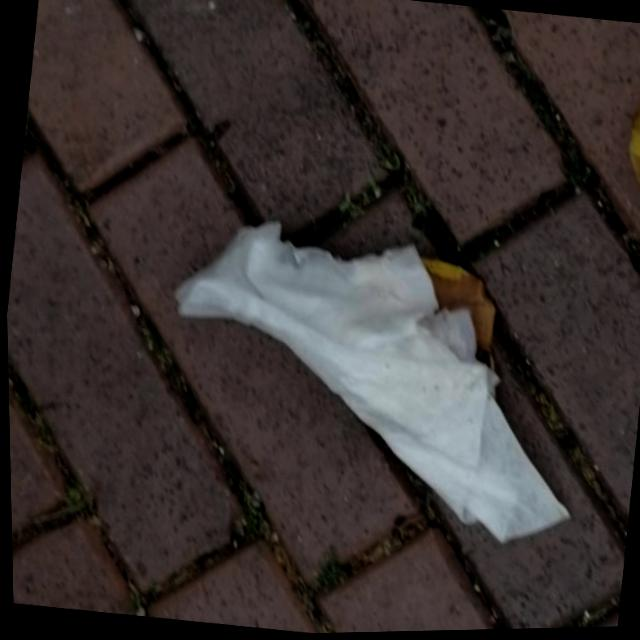Paper: (141, 203, 601, 562)
